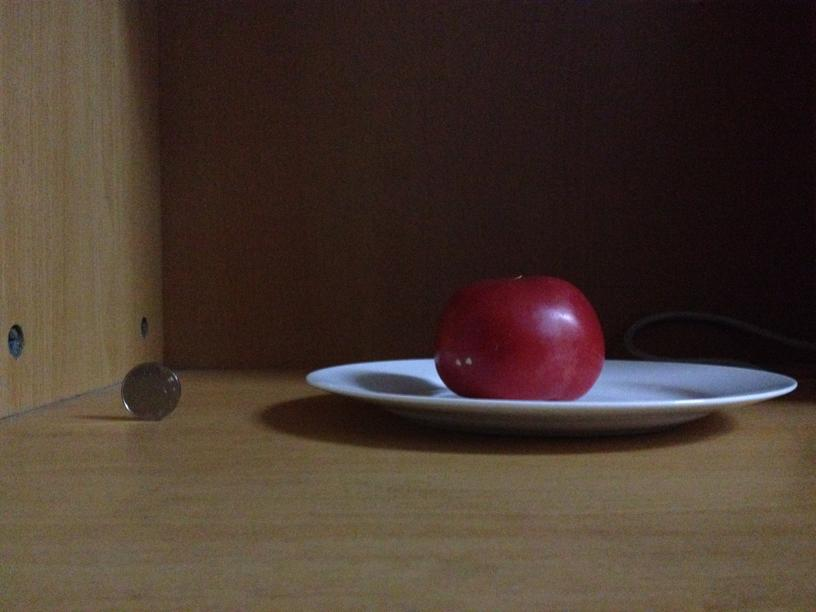coin: (117, 363, 183, 420)
tomato: (440, 276, 604, 400)
